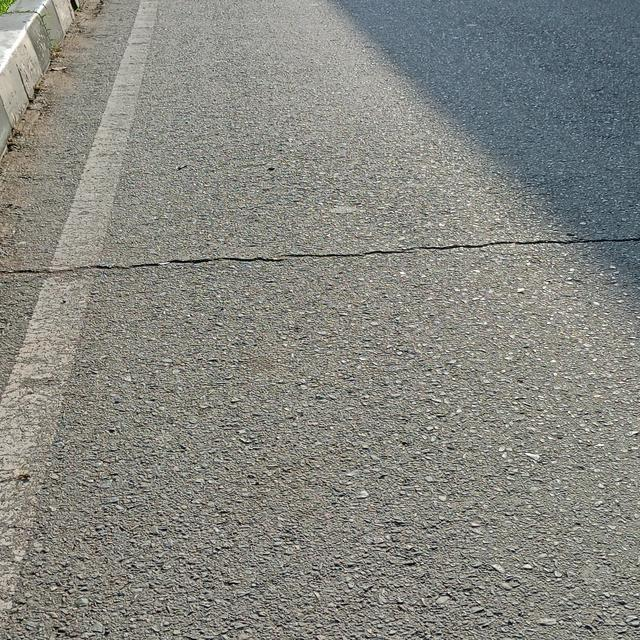Melintang: (0, 224, 640, 292)
